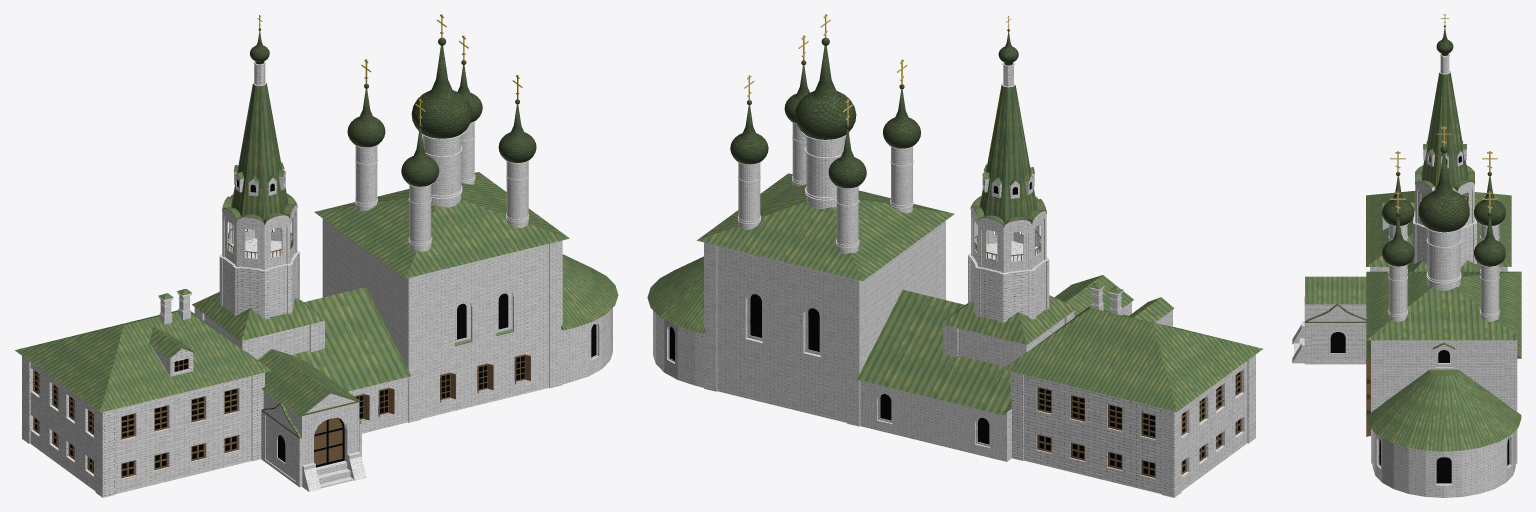
File: cerkov_nikolaya_chudotvorca.glb
The picture shows the model from 3 angles, left to right: view 1: azimuth 30°, elevation 25°; view 2: azimuth 150°, elevation 25°; view 3: azimuth 270°, elevation 25°; orthographic projection. The views are drawn at different scales.
Visible parts, largest first — view 1: Кирпич, Крыши, Купола, Окна, За окном; view 2: Кирпич, Крыши, Купола, За окном, Окна; view 3: Крыши, Кирпич, Купола, За окном, Окна.
Boxes of the visible parts, x1,y1,x2,y2 form: Кирпич: [22, 61, 612, 497]; Крыши: [15, 83, 618, 438]; Купола: [250, 28, 536, 186]; Окна: [33, 354, 530, 478]; За окном: [35, 180, 596, 476]; Кирпич: [653, 62, 1255, 497]; Крыши: [647, 84, 1263, 415]; Купола: [730, 29, 1018, 188]; За окном: [669, 180, 1239, 475]; Окна: [1037, 371, 1241, 478]; Крыши: [1304, 71, 1521, 451]; Кирпич: [1292, 53, 1517, 497]; Купола: [1382, 25, 1505, 266]; За окном: [1330, 156, 1509, 483]; Окна: [1366, 358, 1370, 436].
Bounding box in the file's own units: 44.27 × 30.77 × 18.71.
6 materials, 5 textured.
